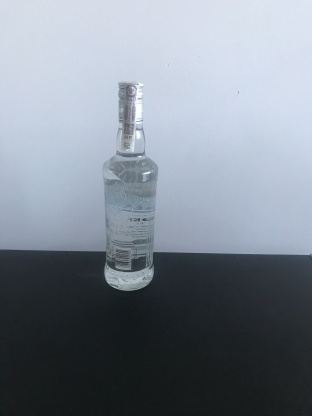nakretka: (114, 76, 146, 127)
